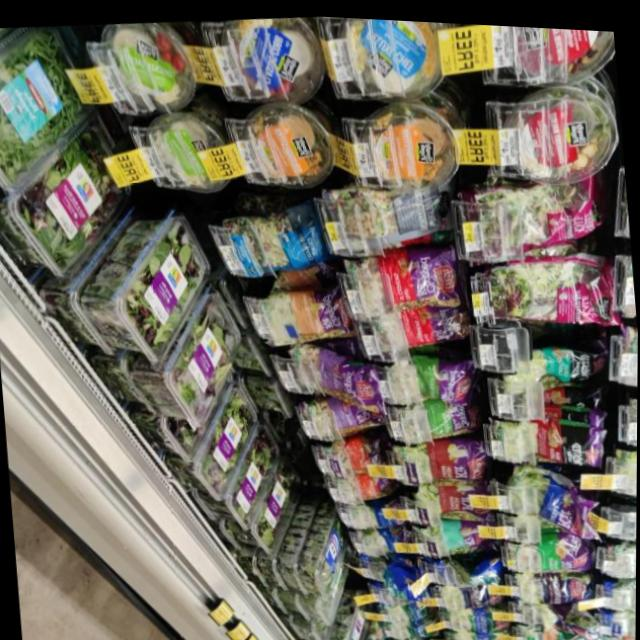Salad: (0, 106, 144, 277), (85, 202, 220, 364), (0, 19, 101, 194), (130, 276, 244, 419), (162, 368, 264, 498), (197, 412, 286, 524), (222, 465, 296, 544), (296, 499, 349, 594), (273, 499, 324, 589), (292, 607, 331, 640), (329, 610, 368, 640)
